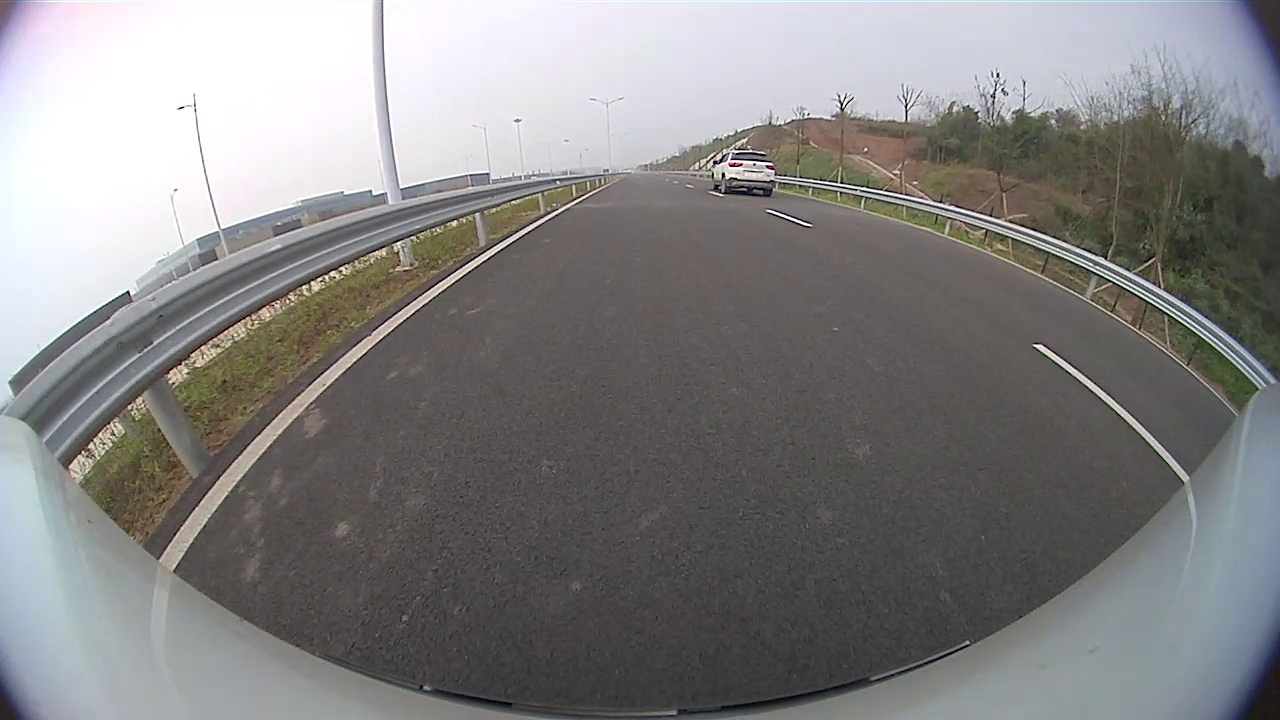car: (710, 149, 776, 197)
front: (712, 175, 717, 191)
rear: (720, 175, 732, 195)
